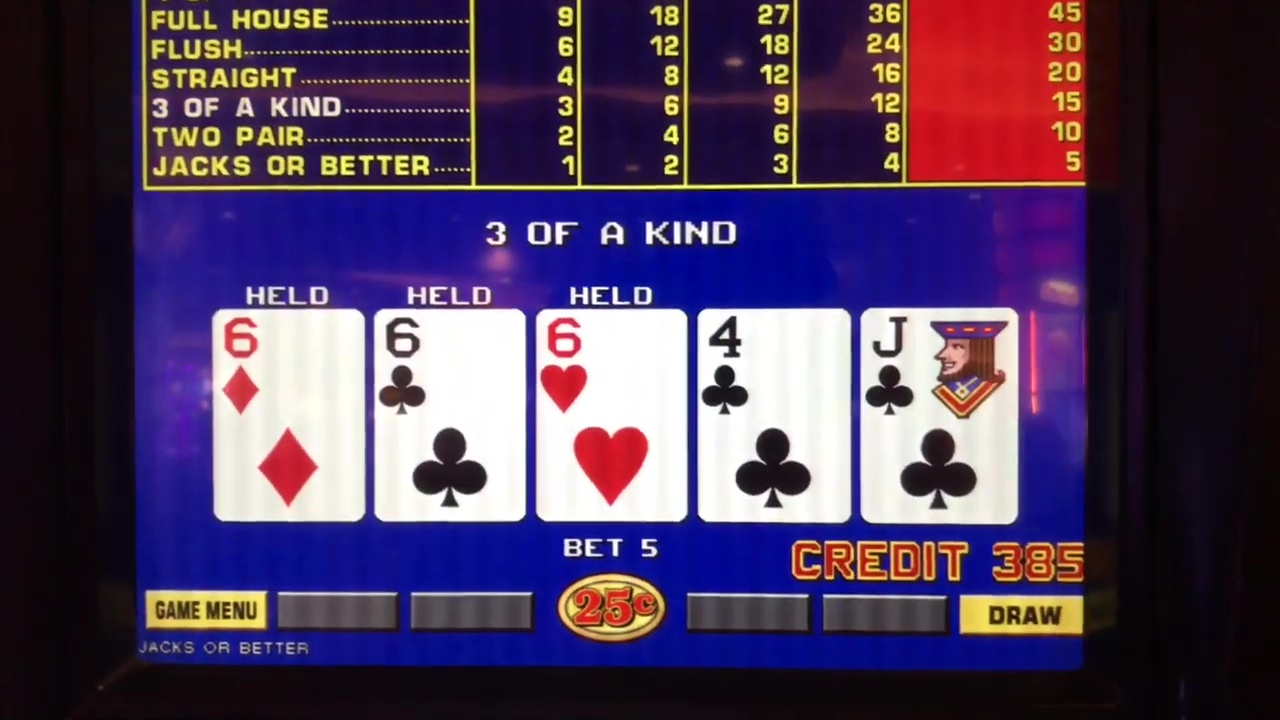C6: (381, 313, 517, 426)
CJ: (867, 310, 1012, 426)
D6: (218, 314, 361, 427)
H6: (538, 313, 685, 425)
S4: (701, 311, 847, 424)
